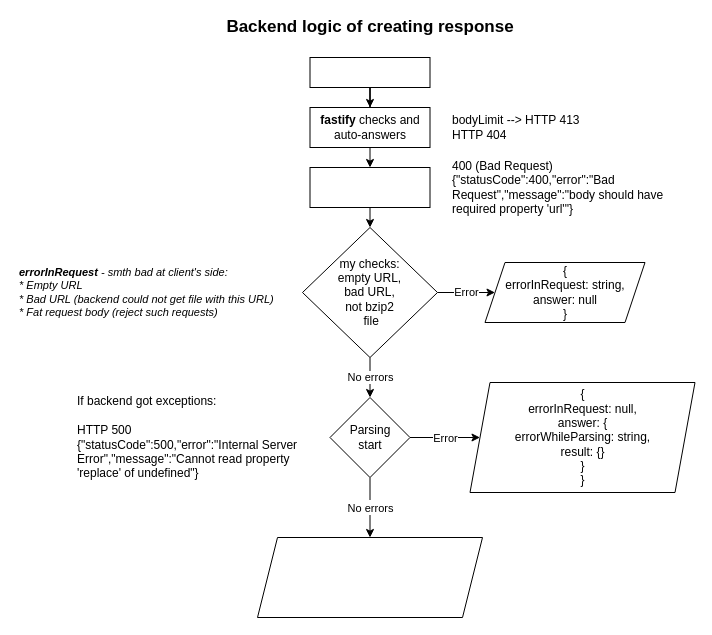
Image size: 712x635. Some labels were removed from this diagram. The centre of each missing label's shape, as x and y in pixels:
"errorInRequest: null, answer: { errorWhileParsing: null, result: {...} }" belongs at point 369,577.
"Request from client" belongs at point 369,72.
"validation of request body by JSON Schema" belongs at point 369,187.
